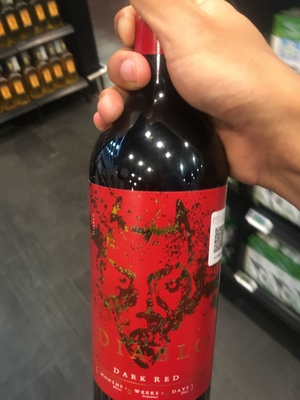diablo dark red: (86, 23, 227, 400)
